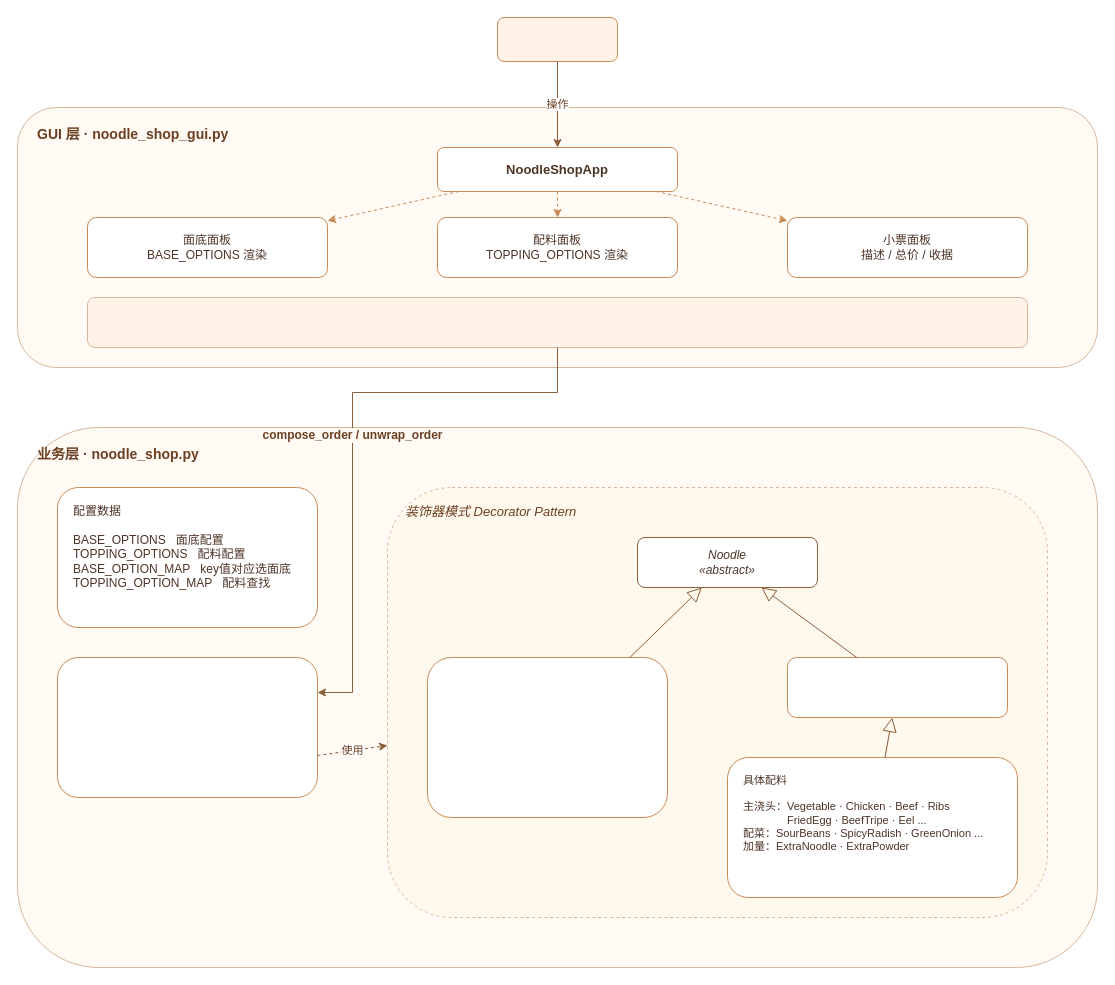
This 1115x985 diagram has some shape labels left out. Each missing label, with the centre of its shape:
"ToppingDecorator 包裹 Noodle" belongs at (897,687).
"事件回调 · refresh_preview · change_topping_count · reset_order" belongs at (557,322).
"具体面底 HotDryNoodle 热干面 HotDryPowder 热干粉 SoupNoodle 汤面 SoupPowder 汤粉" belongs at (547,737).
"核心函数 compose_order(组合订单) unwrap_order(拆解订单) create_base" belongs at (187,727).
"用户" belongs at (557,39).
